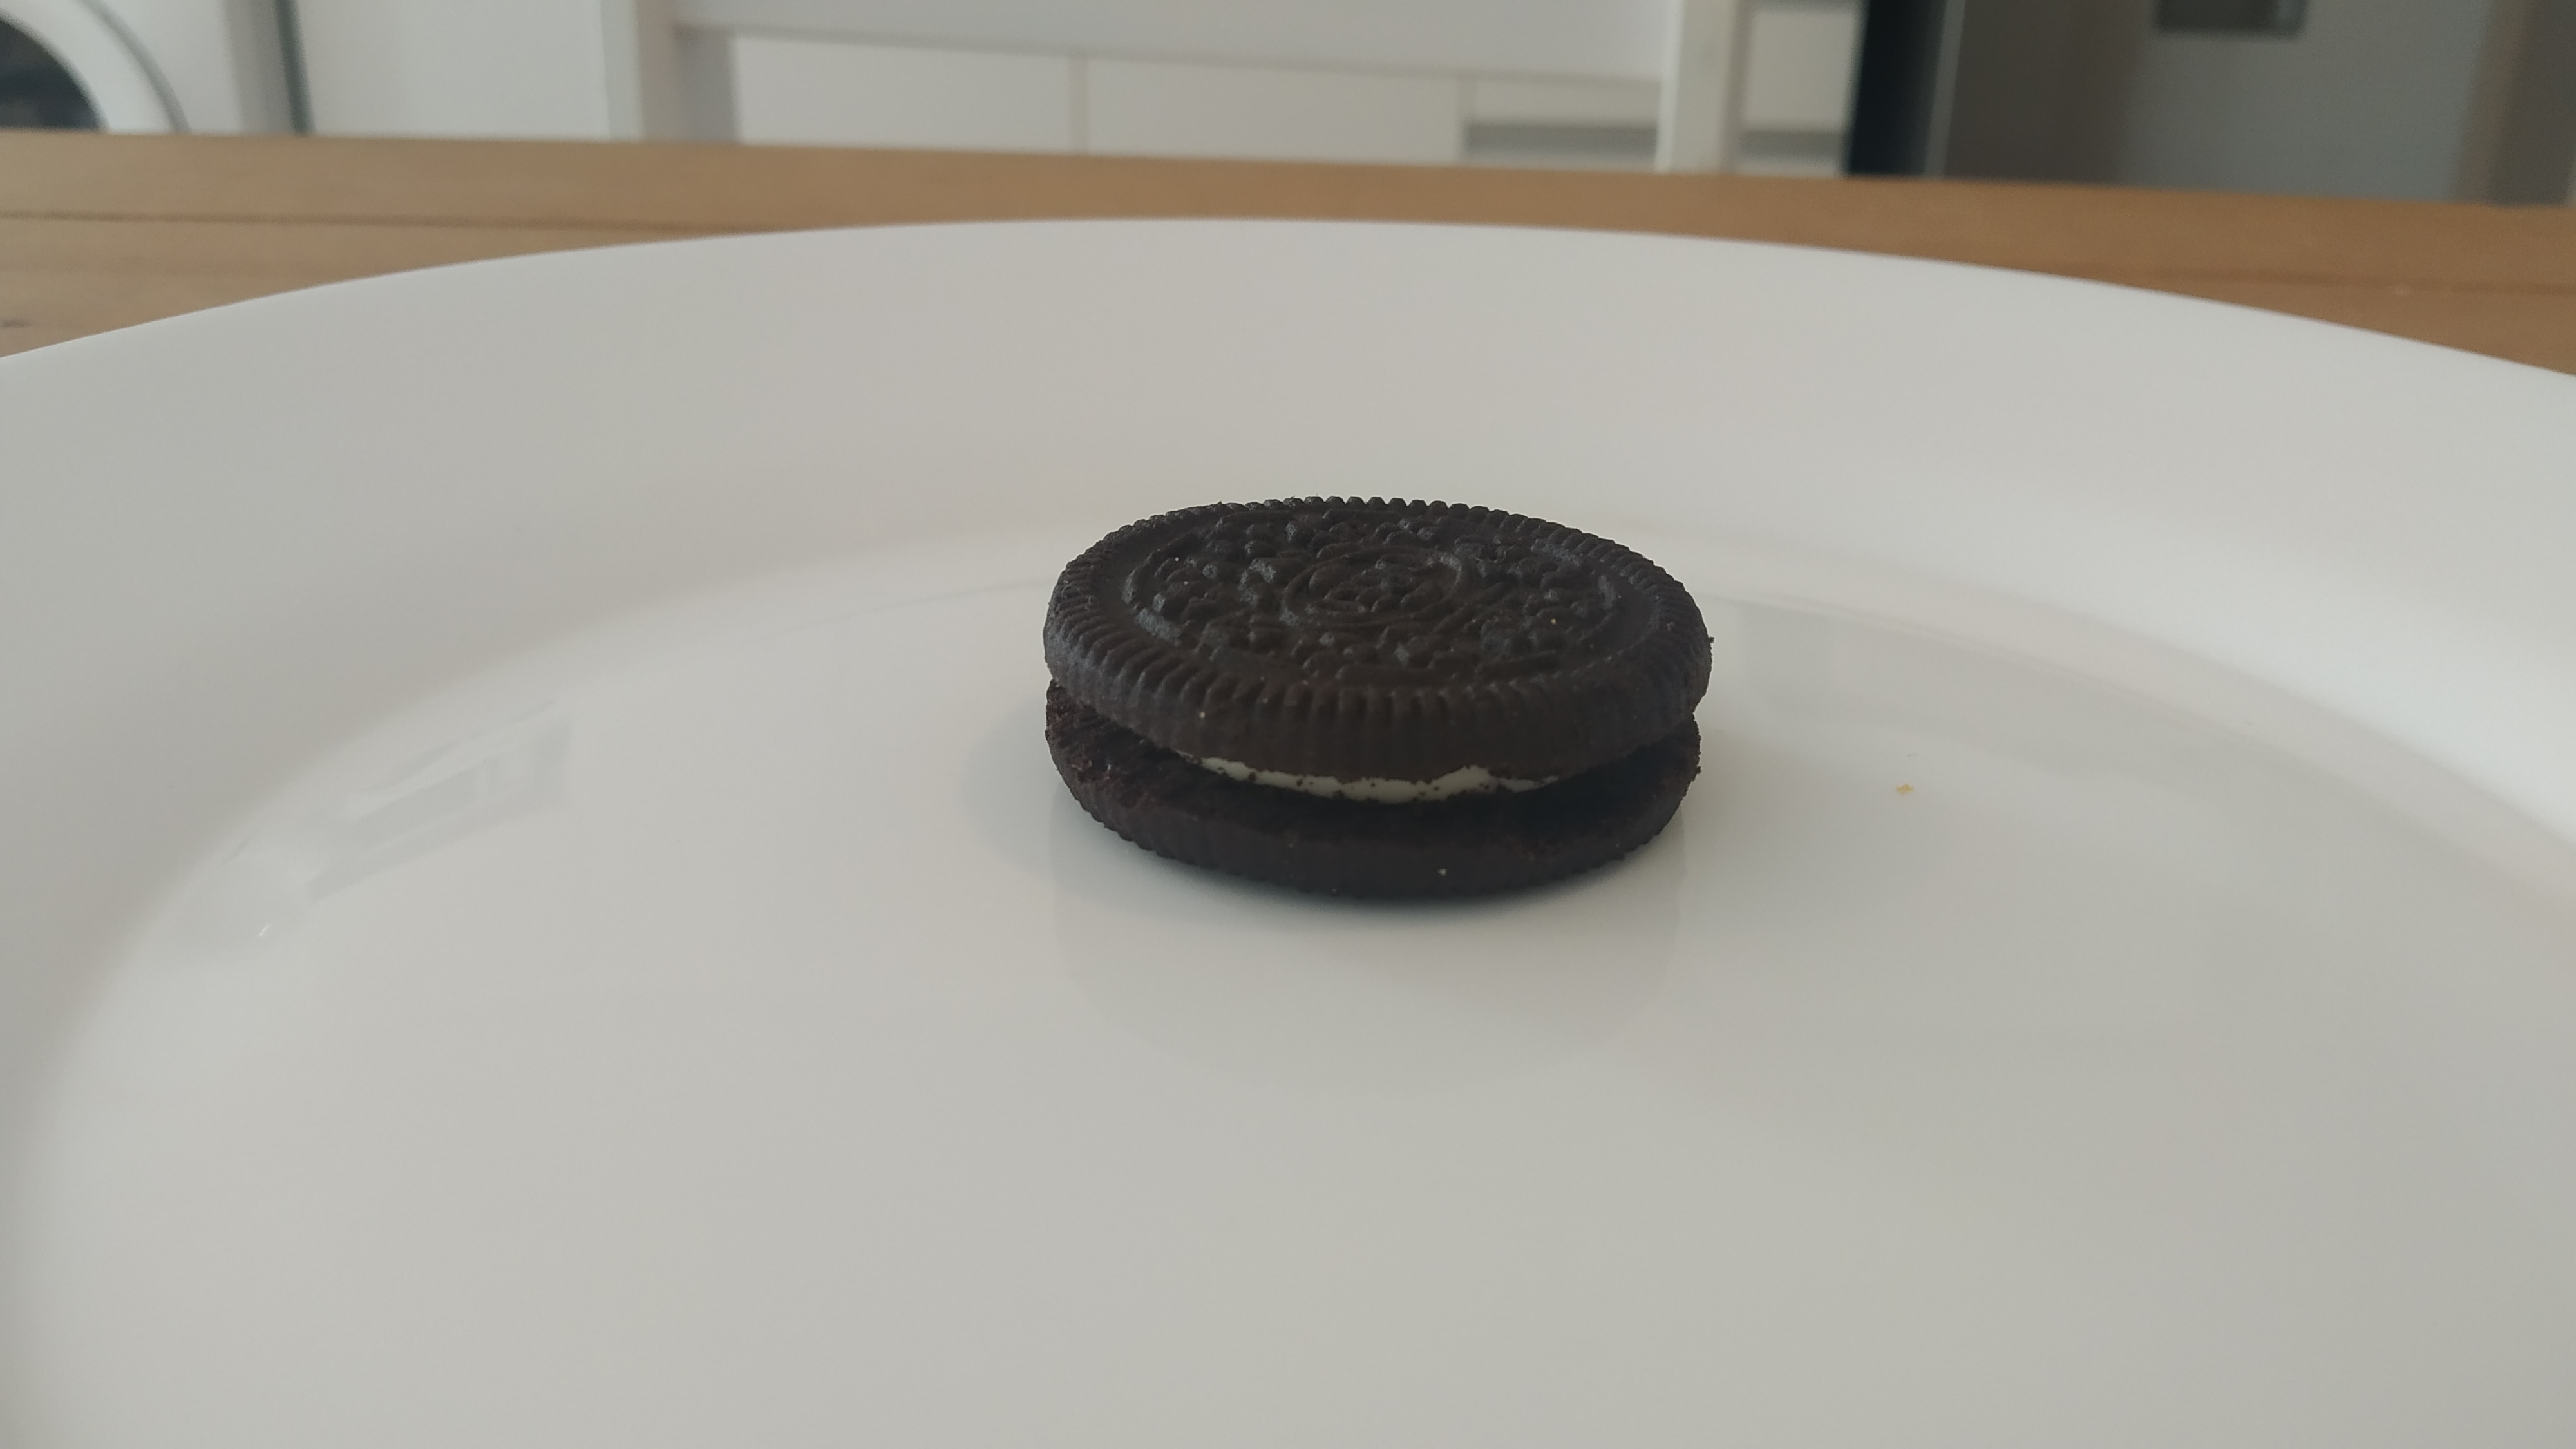oreo: (1040, 492, 1714, 902)
